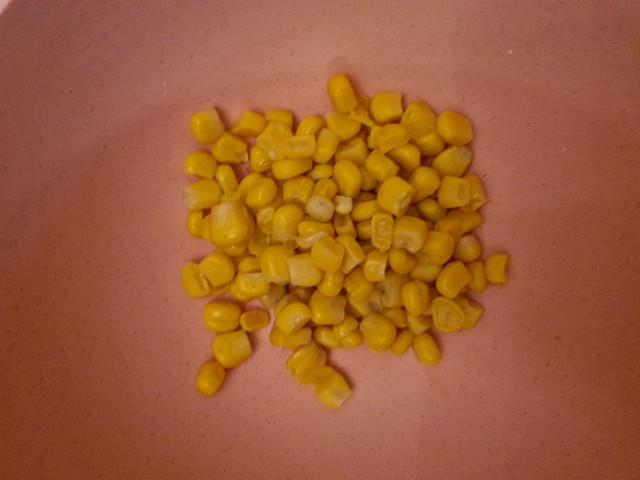kichen waste: (183, 75, 487, 408)
